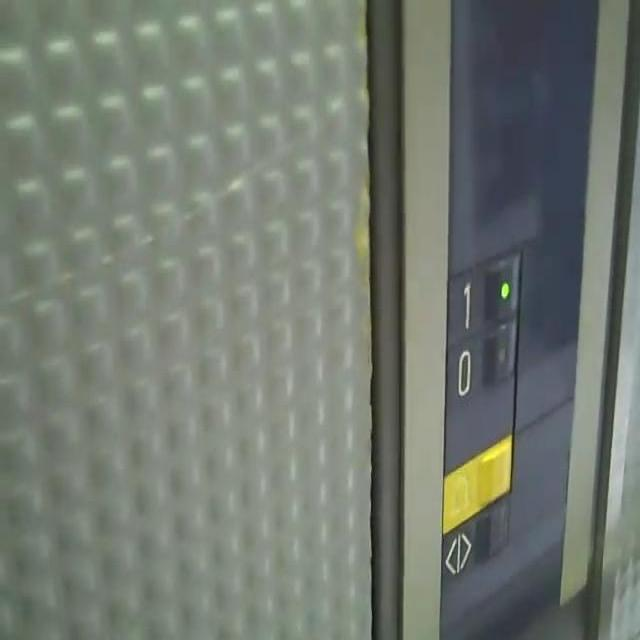0: (441, 313, 521, 412)
1: (443, 244, 524, 343)
alarm: (438, 431, 516, 536)
open: (438, 484, 514, 579)
